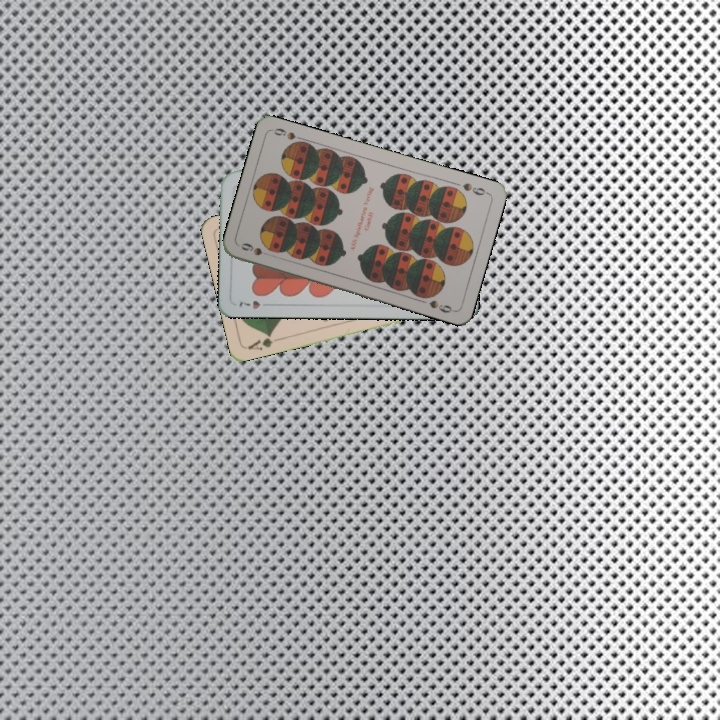GA: (244, 330, 283, 353)
H7: (235, 296, 274, 311)
S9: (458, 179, 491, 198), (237, 239, 265, 258)
